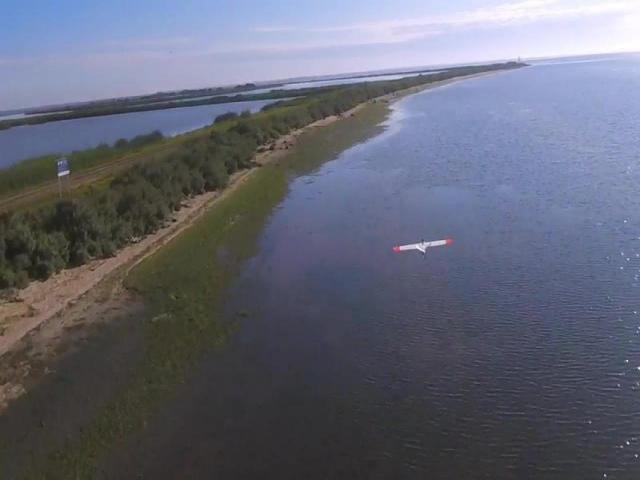hedef: (386, 224, 459, 270)
